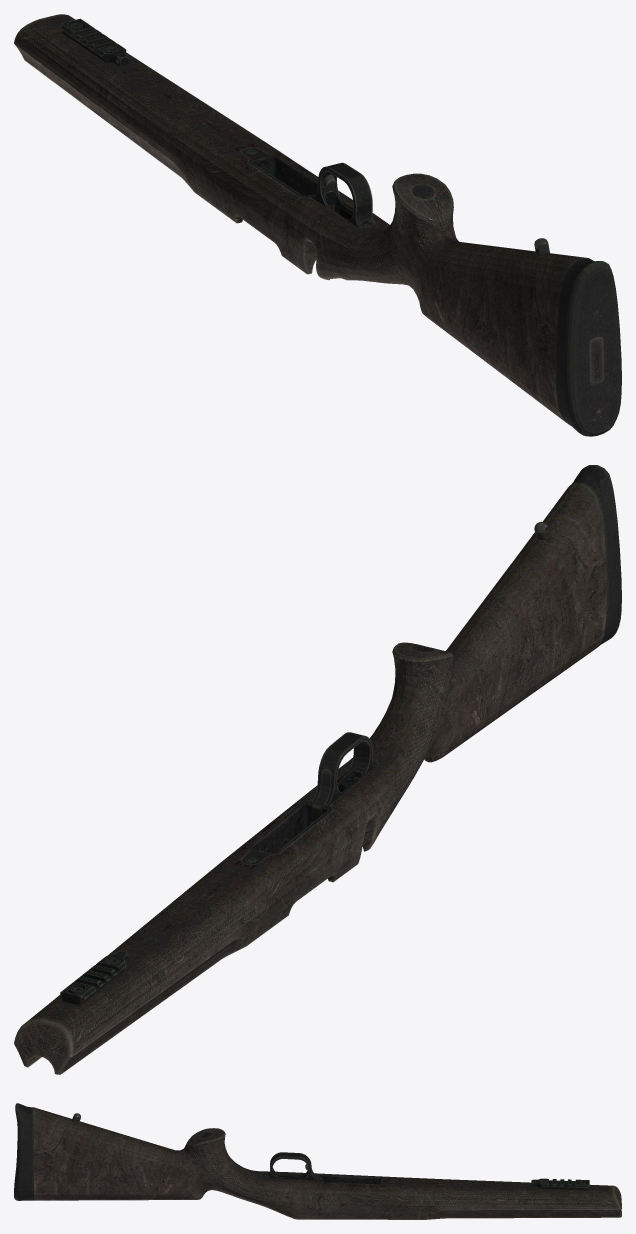
3 renders of one model, top to bottom at view 1: azimuth 30°, elevation 25°; view 2: azimuth 150°, elevation 25°; view 3: azimuth 270°, elevation 25°, orthographic. The views are drawn at different scales.
Parts seen in each view (by area): view 1: TW_5bfeb32b0db834001a6694d9_PZ_Import; view 2: TW_5bfeb32b0db834001a6694d9_PZ_Import; view 3: TW_5bfeb32b0db834001a6694d9_PZ_Import.
Boxes of the visible parts, x1,y1,x2,y2 form: TW_5bfeb32b0db834001a6694d9_PZ_Import: (14, 14, 621, 436); TW_5bfeb32b0db834001a6694d9_PZ_Import: (14, 465, 621, 1074); TW_5bfeb32b0db834001a6694d9_PZ_Import: (14, 1103, 621, 1219).
Bounding box in the file's own units: 0.0303 × 0.4591 × 0.0907.
1 material, 1 textured.
